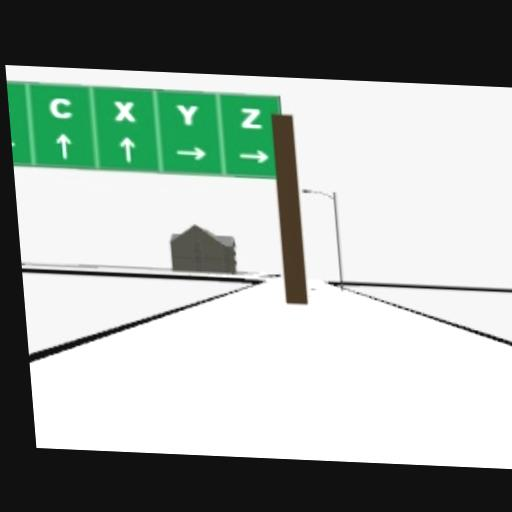C: (47, 95, 72, 117)
Right: (175, 144, 207, 160), (237, 147, 268, 162)
Straight: (54, 132, 72, 157), (119, 135, 137, 160)
X: (112, 98, 135, 120)
Y: (175, 103, 200, 125)
Z: (237, 106, 262, 128)
